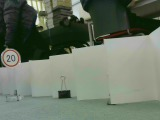speed_20: (1, 47, 22, 70)
